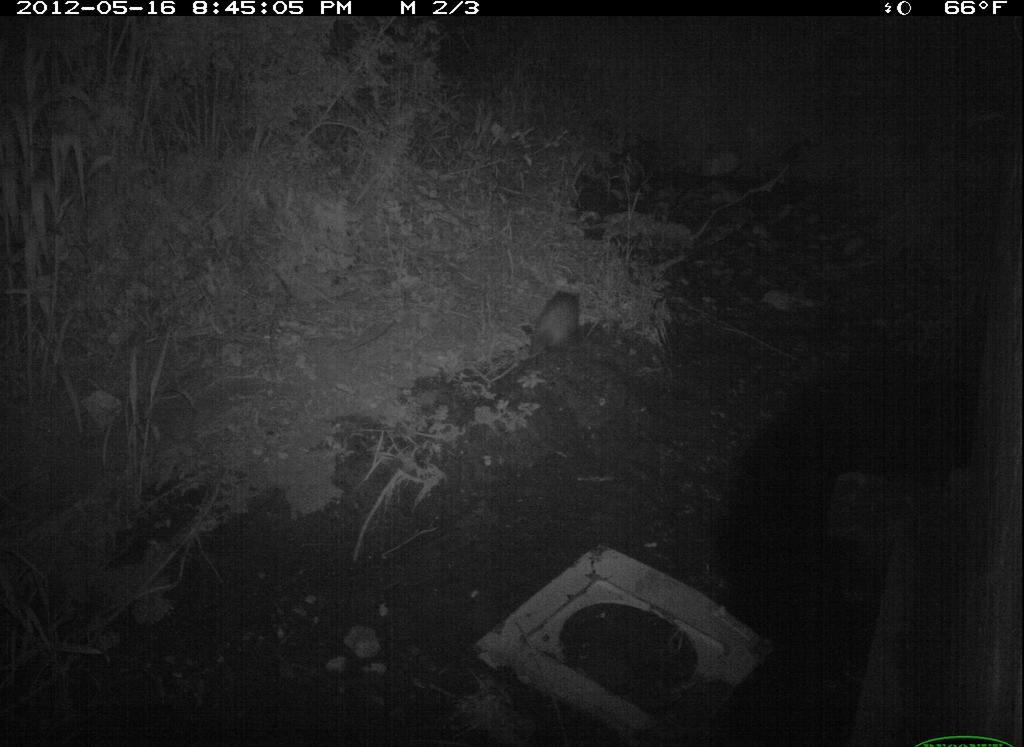opossum: (518, 274, 606, 369)
